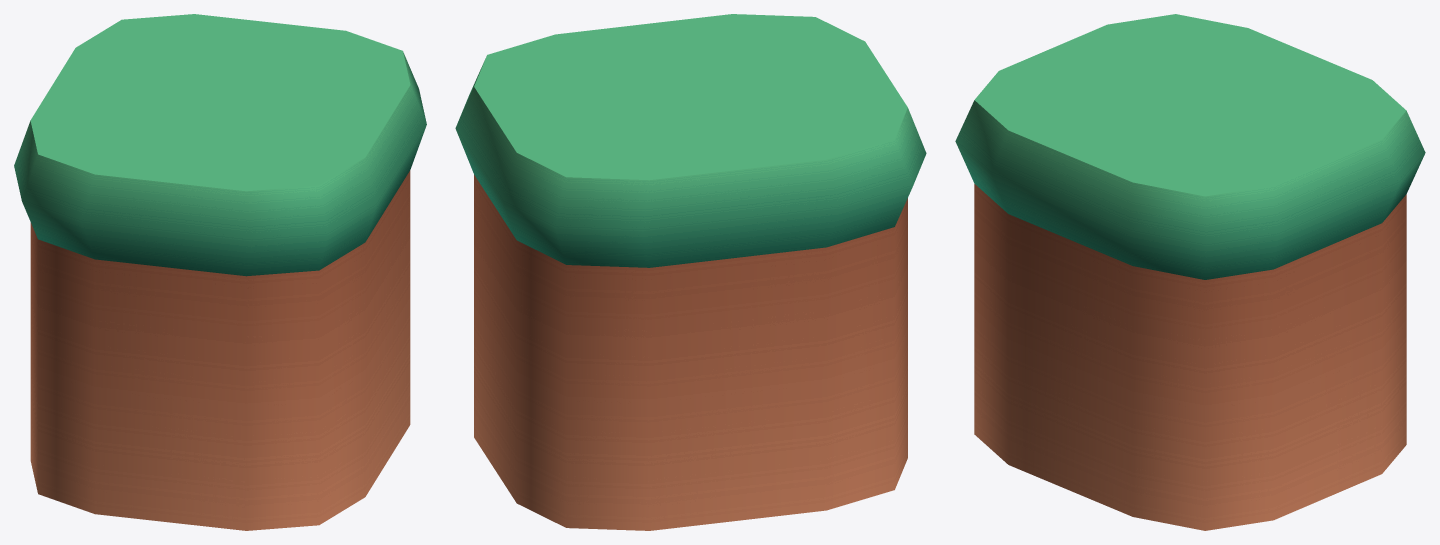
The model's file is block-grass.003_lev2.glb.
3 views of the same model, side by side, from view 1: azimuth 30°, elevation 25°; view 2: azimuth 150°, elevation 25°; view 3: azimuth 270°, elevation 25° (orthographic). The views are drawn at different scales.
Parts seen in each view (by area): view 1: block-grass.003_lev2; view 2: block-grass.003_lev2; view 3: block-grass.003_lev2.
Boxes of the visible parts, x1=… form: block-grass.003_lev2: x1=14, y1=14, x2=426, y2=530; block-grass.003_lev2: x1=455, y1=14, x2=926, y2=530; block-grass.003_lev2: x1=955, y1=14, x2=1425, y2=530.
Bounding box in the file's own units: 4.73 × 3.72 × 4.74.
1 material, 1 textured.
